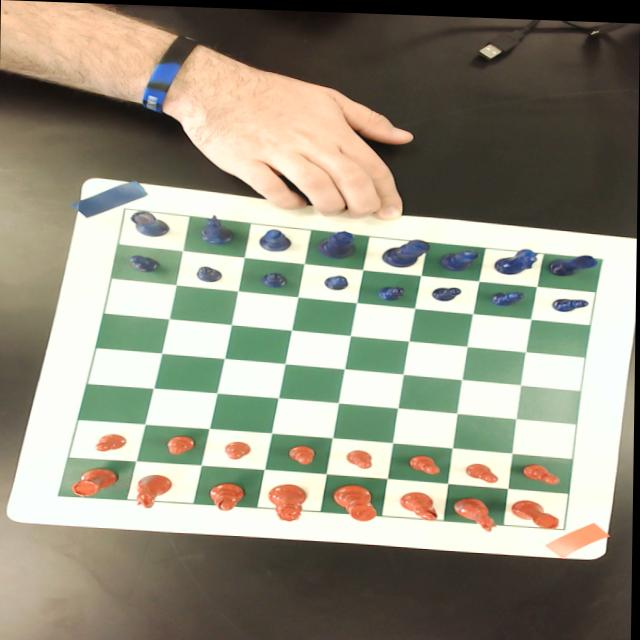B: (439, 245, 479, 269), (259, 226, 291, 250)
K: (380, 234, 430, 266)
N: (493, 242, 541, 272), (197, 212, 238, 244)
P: (128, 253, 162, 273), (551, 293, 589, 309), (490, 286, 524, 303), (376, 282, 408, 299), (195, 263, 223, 282), (431, 282, 461, 299), (323, 272, 349, 289), (262, 270, 288, 286)
Q: (318, 227, 356, 256)
R: (548, 249, 598, 273), (130, 208, 171, 236)
b: (400, 488, 438, 518), (207, 480, 245, 510)
cb: (58, 208, 601, 525)
k: (332, 481, 378, 519)
n: (453, 493, 499, 529), (136, 472, 176, 508)
p: (521, 459, 561, 481), (466, 459, 500, 480), (94, 432, 129, 451), (166, 433, 196, 454), (408, 452, 441, 471), (289, 443, 317, 463), (347, 447, 373, 467), (226, 439, 252, 458)
q: (267, 481, 309, 520)
r: (71, 466, 120, 498), (511, 495, 561, 525)
